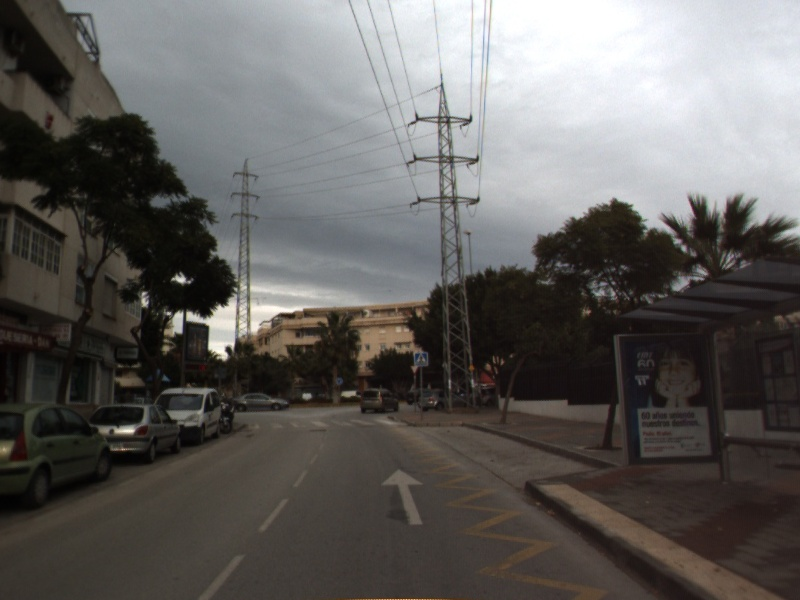STRAIGHT: (379, 466, 427, 527)
